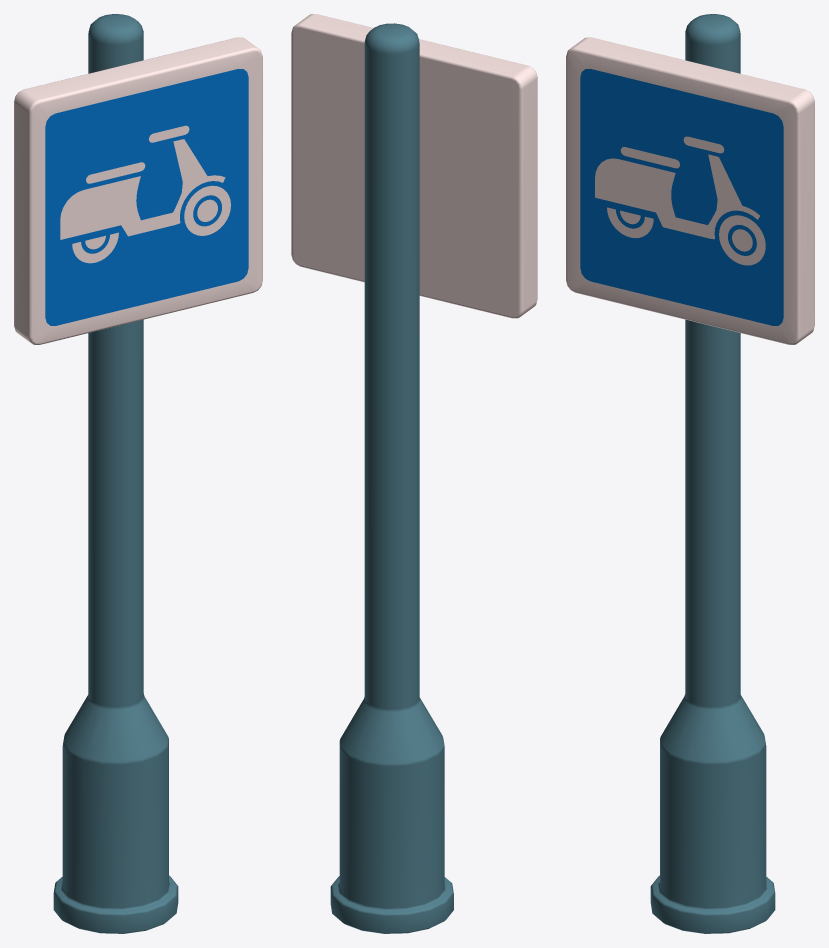
File: City_14_Sign_Scooter_1.glb
The picture shows the model from 3 angles, left to right: view 1: azimuth 30°, elevation 25°; view 2: azimuth 150°, elevation 25°; view 3: azimuth 330°, elevation 25°; orthographic projection.
Parts seen in each view (by area): view 1: City_14_Sign_Scooter_1; view 2: City_14_Sign_Scooter_1; view 3: City_14_Sign_Scooter_1.
Boxes of the visible parts, <box> form: City_14_Sign_Scooter_1: <box>14,14,262,933</box>; City_14_Sign_Scooter_1: <box>291,14,537,933</box>; City_14_Sign_Scooter_1: <box>566,14,814,933</box>.
Size of the model in its own units: 1.14 by 4.13 by 0.5298.
1 material, 1 textured.
